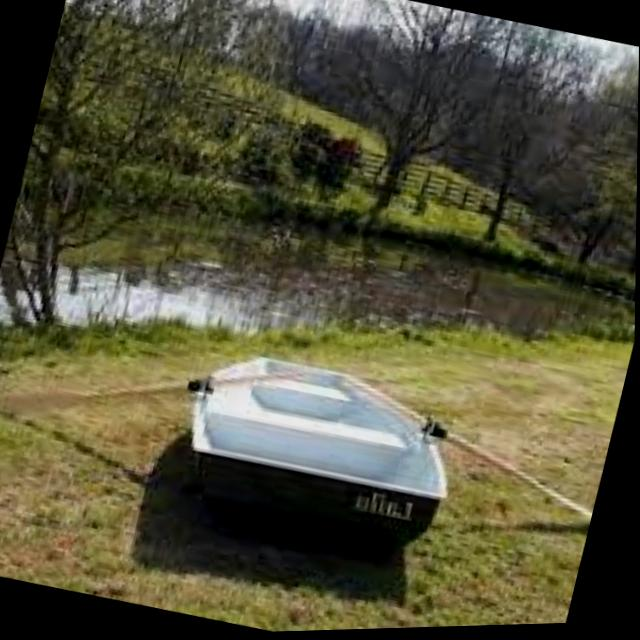ship2: (189, 358, 449, 570)
